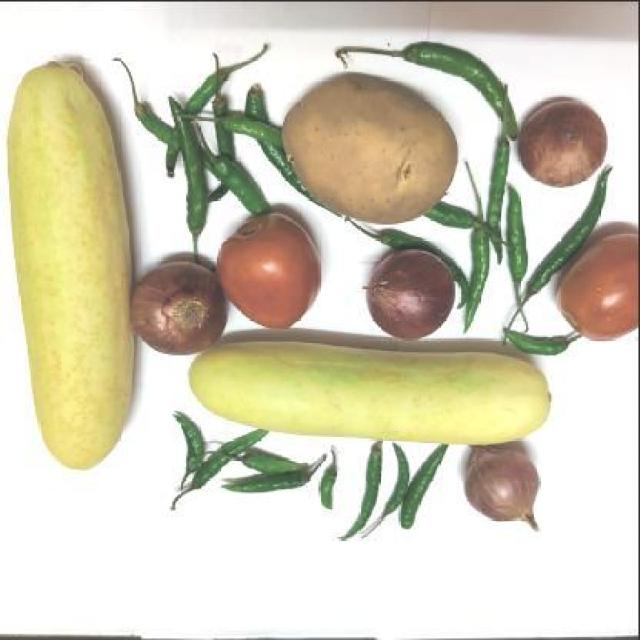onion: (358, 251, 464, 342), (133, 254, 230, 353), (516, 99, 618, 188), (461, 441, 550, 539)
